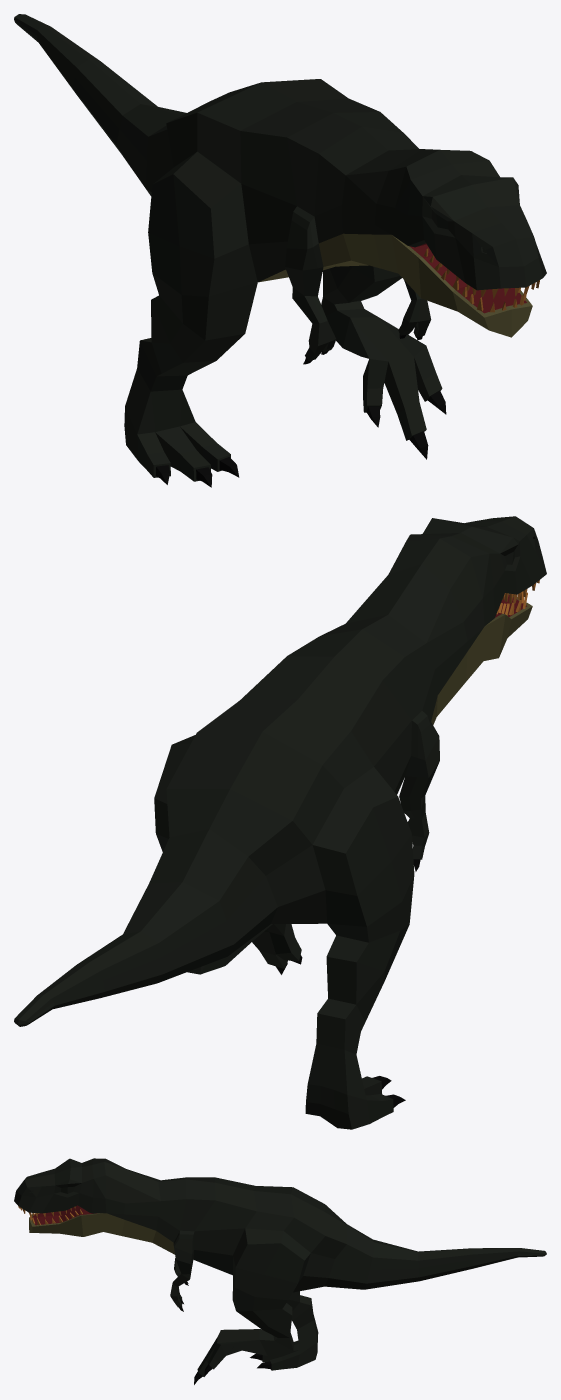
The model's file is Trex_000027.obj.
3 renders of one model, top to bottom at view 1: azimuth 30°, elevation 25°; view 2: azimuth 150°, elevation 25°; view 3: azimuth 270°, elevation 25°, orthographic. The views are drawn at different scales.
Parts seen in each view (by area): view 1: Trex_Cylinder; view 2: Trex_Cylinder; view 3: Trex_Cylinder.
Part boxes in pixels (x1,y1,x2,y2): Trex_Cylinder: (14,14,546,487); Trex_Cylinder: (14,516,546,1129); Trex_Cylinder: (14,1158,546,1384).
Size of the model in its own units: 7.98 by 14.42 by 31.43.
